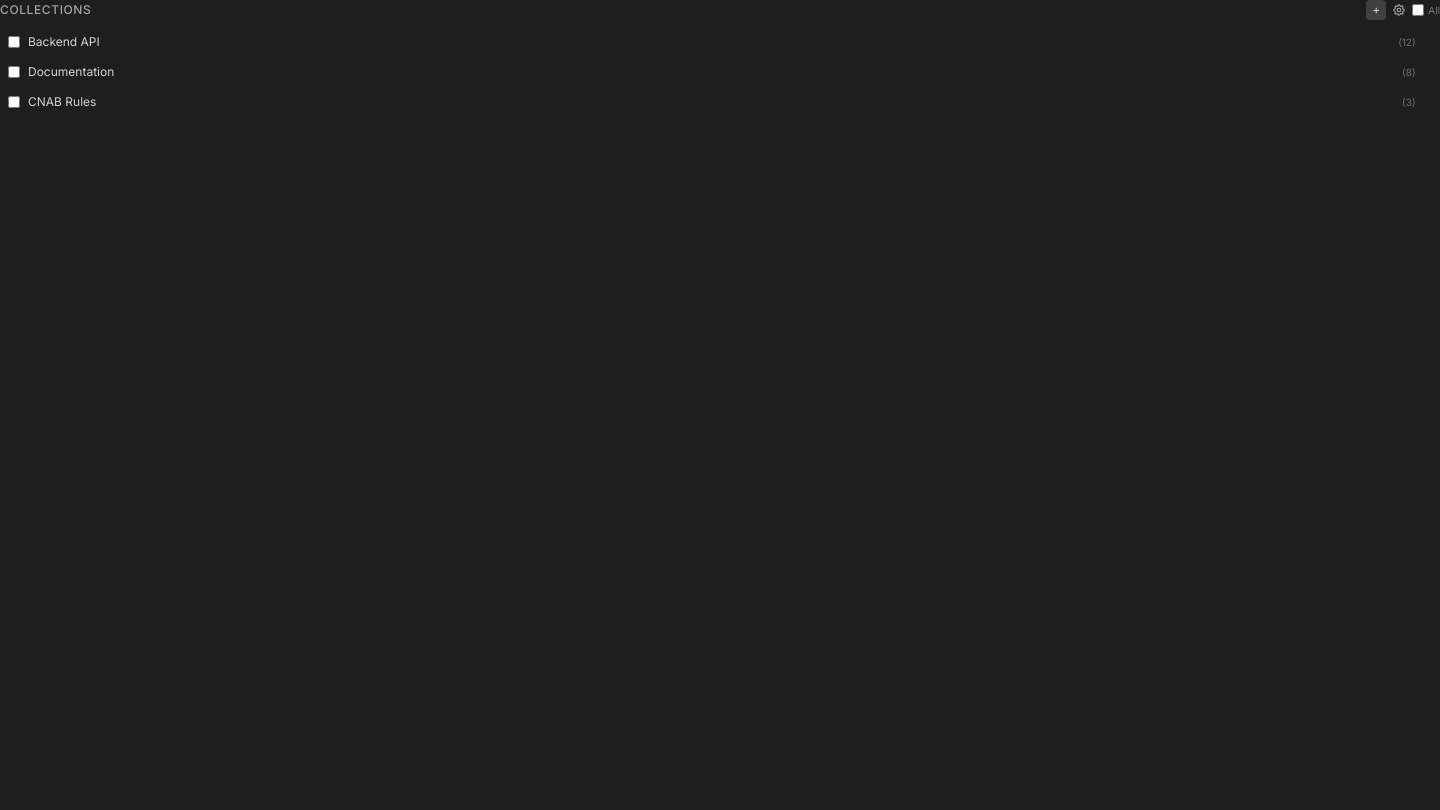
CollectionList › Delete collection › should show delete confirmation dialog via context menu
Right-click the list item with test id "collection-item-1" at (712,42), box [8,34,1416,50]
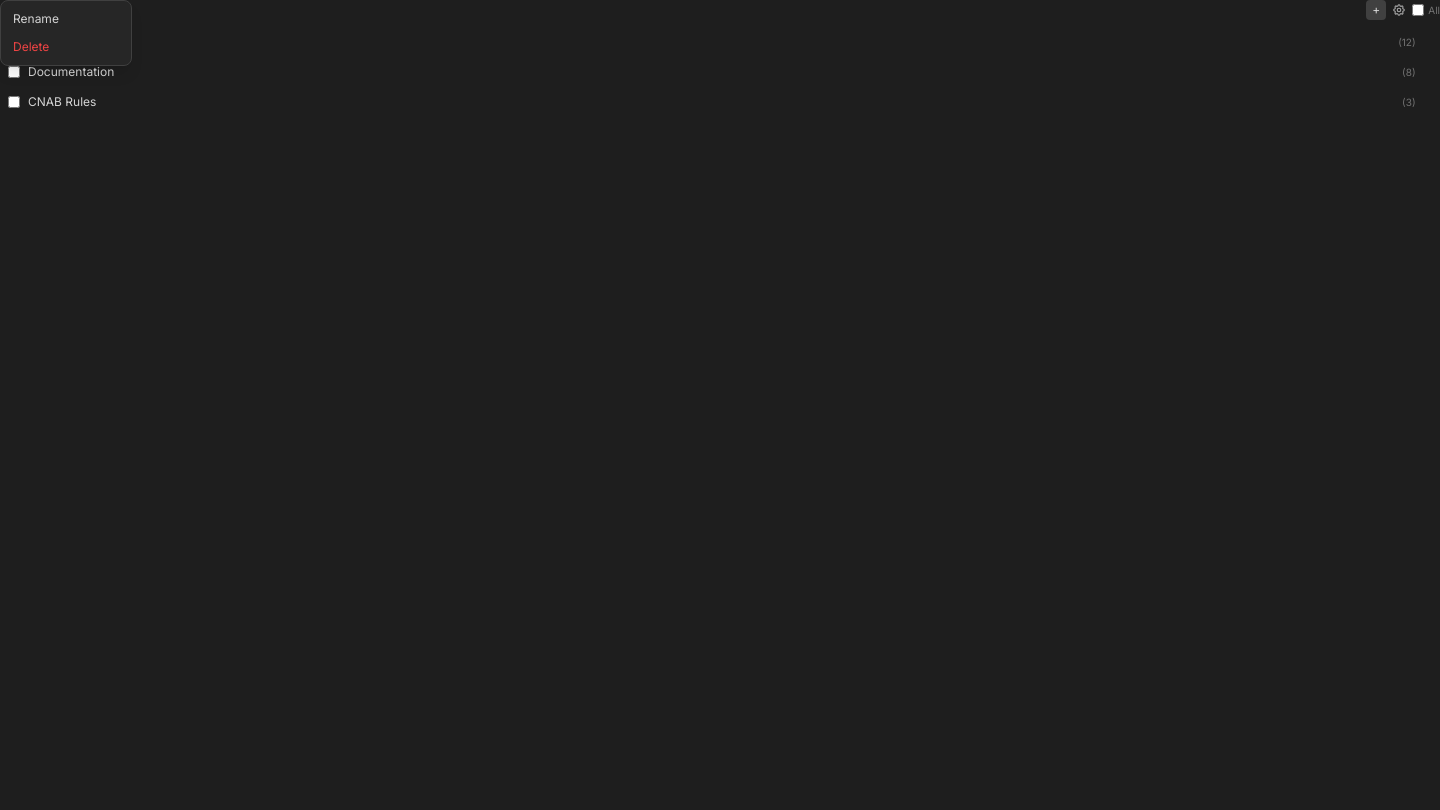
Result: the menu with test id "context-menu" is shown at [0,0,132,66]
Click the menu item with test id "ctx-delete". click: (66,47)
box: [1,33,131,61]
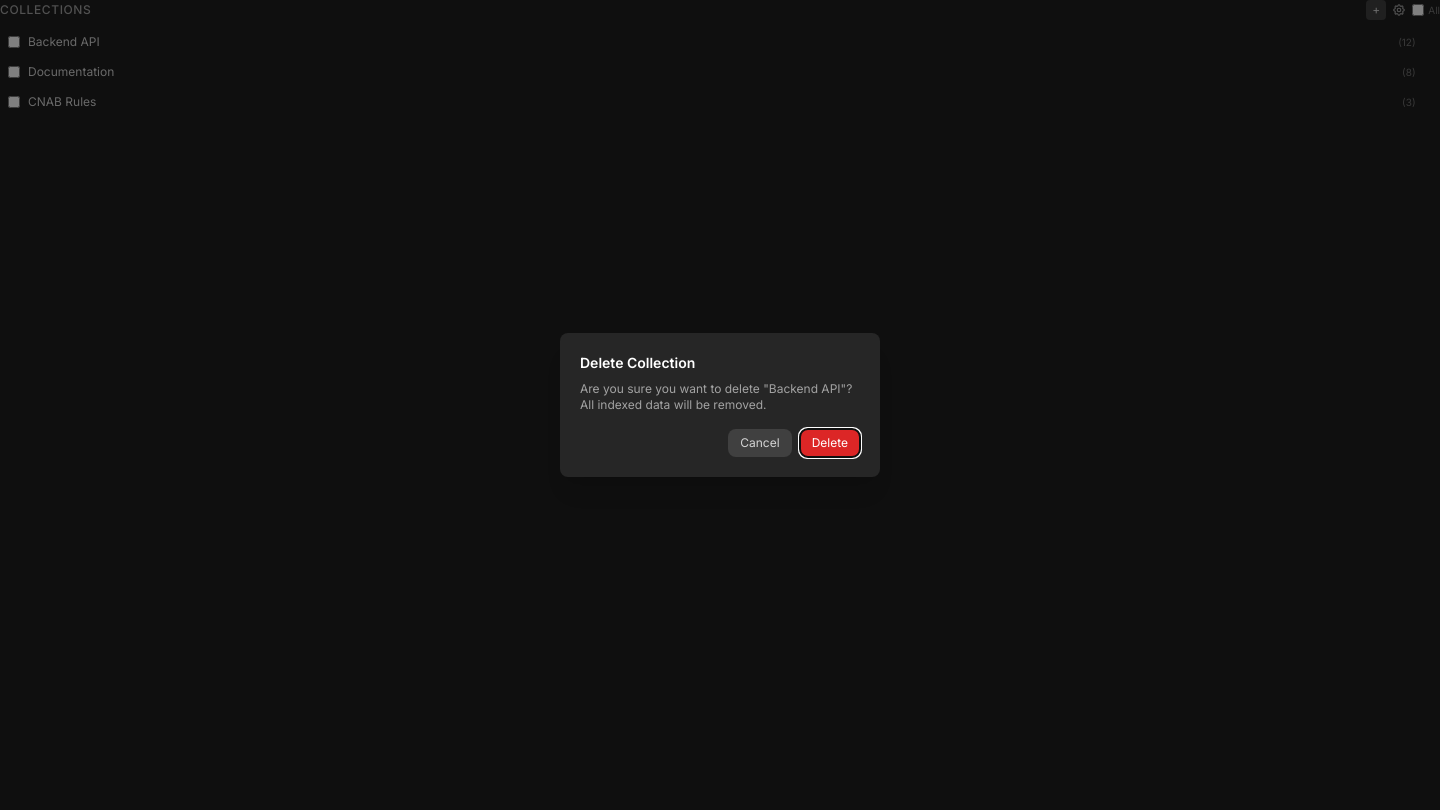
Result: the dialog with test id "delete-dialog" is shown
